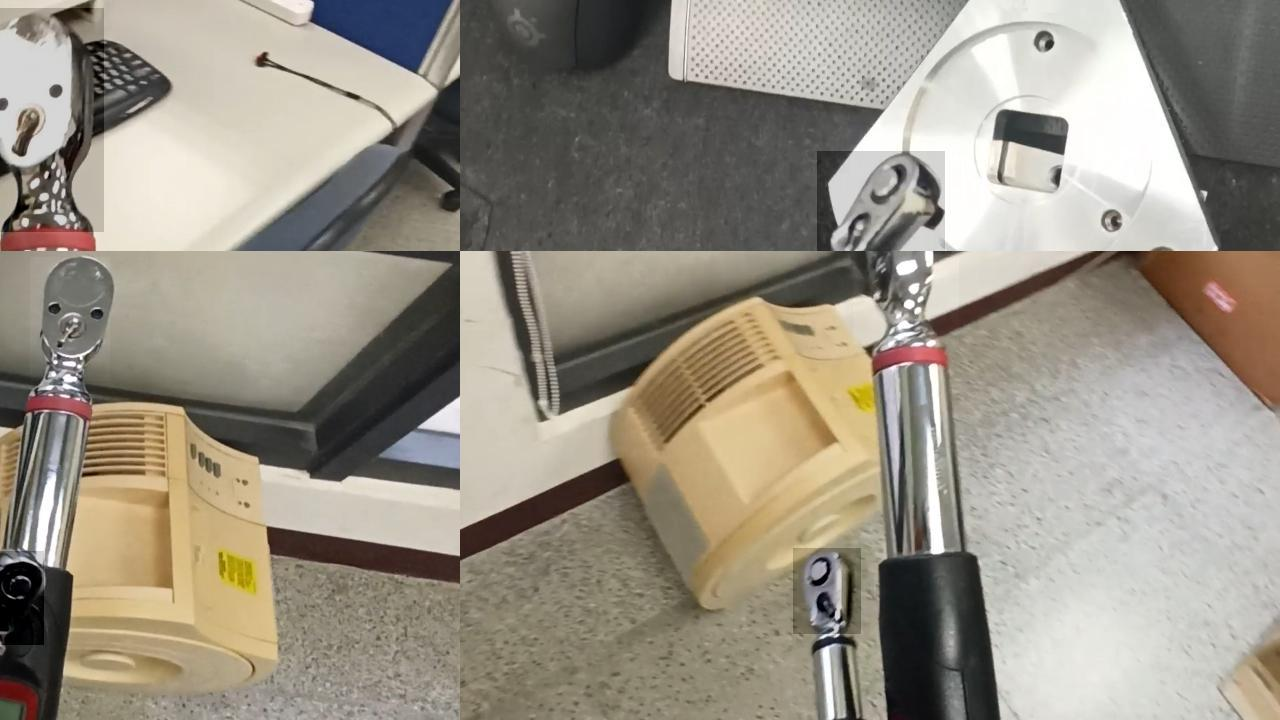Tool: (0, 7, 103, 231), (816, 150, 944, 251), (29, 256, 109, 380), (852, 251, 958, 343), (792, 547, 860, 633), (0, 550, 43, 644)
